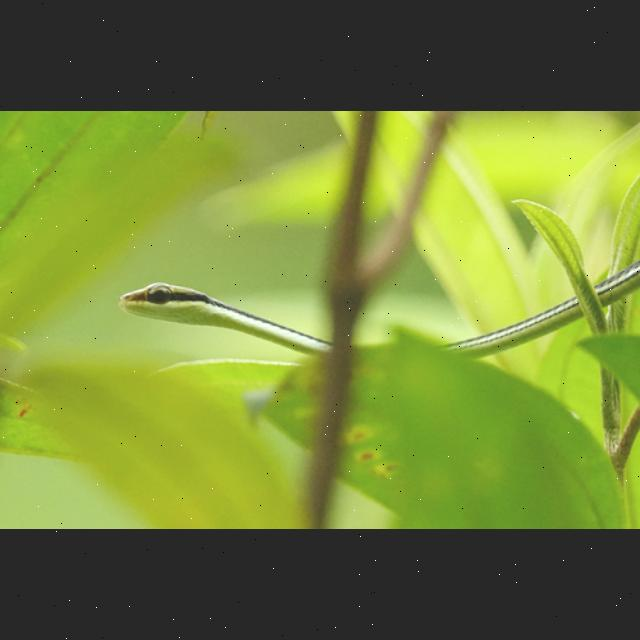snake: (116, 274, 640, 358)
